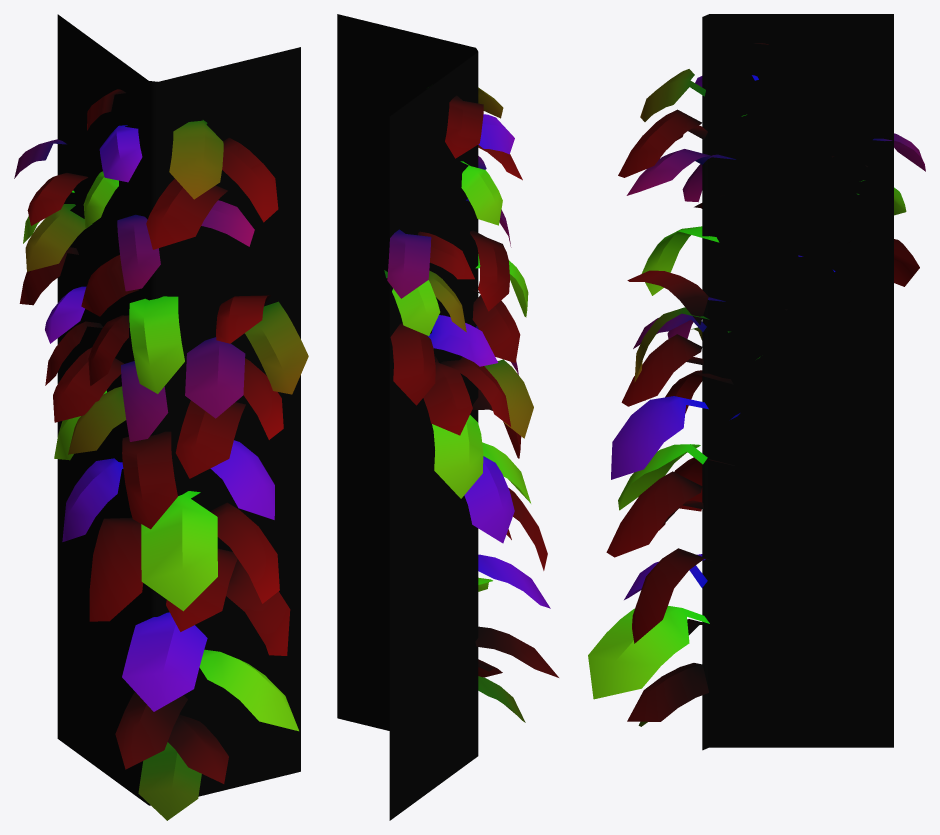
Rendered from Vine_monstera_var2.fbx.
The picture shows the model from 3 angles, left to right: view 1: azimuth 30°, elevation 25°; view 2: azimuth 150°, elevation 25°; view 3: azimuth 270°, elevation 25°; orthographic projection. The views are drawn at different scales.
Parts seen in each view (by area): view 1: MO_var2_LOD0; view 2: MO_var2_LOD0; view 3: MO_var2_LOD0.
Boxes of the visible parts, box(x1,y1,x2,y2) form: MO_var2_LOD0: box(14, 14, 308, 820); MO_var2_LOD0: box(337, 14, 558, 820); MO_var2_LOD0: box(588, 14, 925, 750).
Size of what is drawn, in the model's own units: 1.56 by 5.08 by 2.12.
